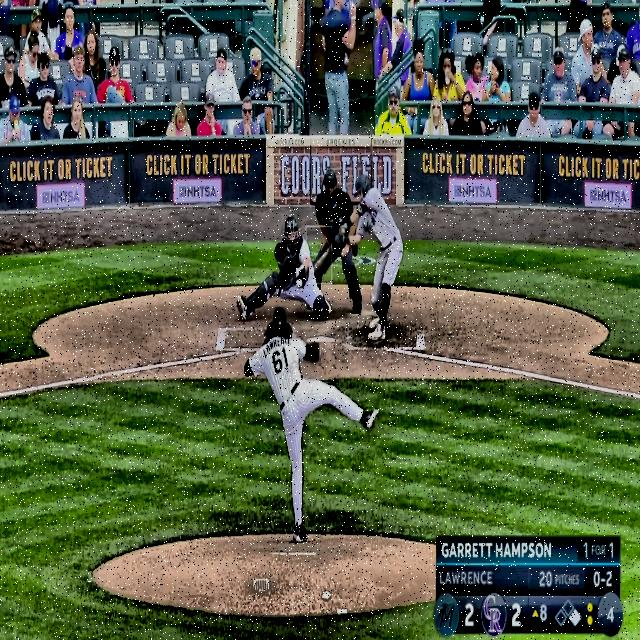baseball: (294, 278, 304, 289)
